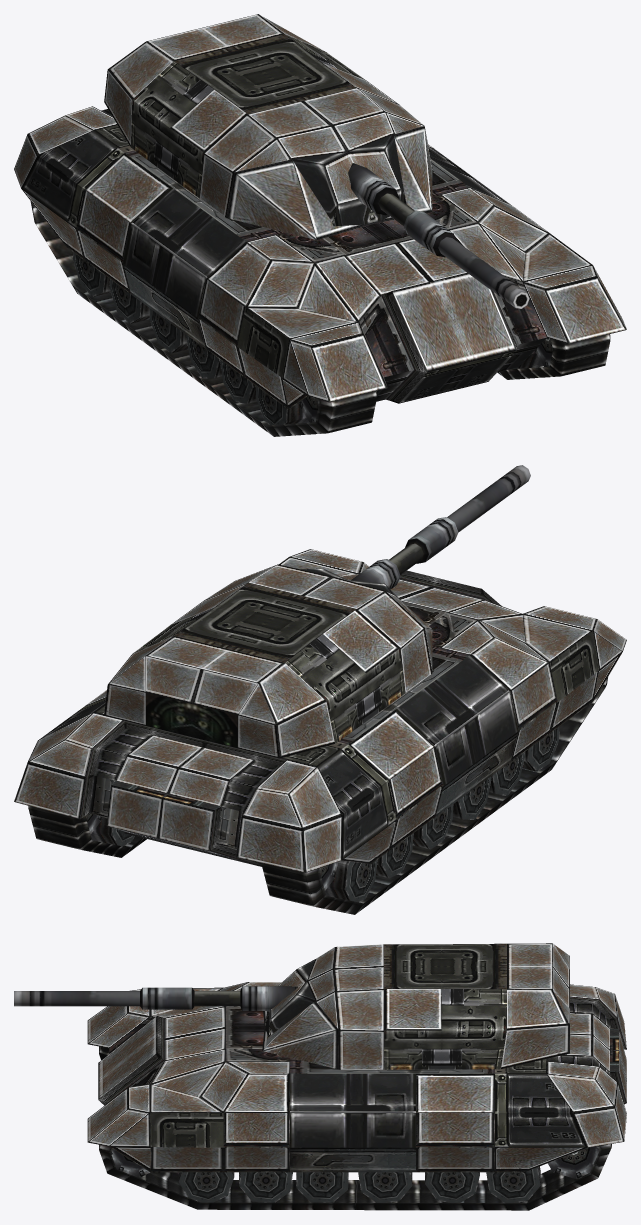
The model's file is tank3.dae.
The picture shows the model from 3 angles, top to bottom: view 1: azimuth 30°, elevation 25°; view 2: azimuth 150°, elevation 25°; view 3: azimuth 270°, elevation 25°; orthographic projection. The views are drawn at different scales.
Visible parts, largest first — view 1: body-Geometry, tower-Geometry, tracks-Geometry, Object46-Geometry, Object50-Geometry, Object49-Geometry, Object51-Geometry, Object47-Geometry, Object48-Geometry; view 2: body-Geometry, tower-Geometry, tracks-Geometry, Object51-Geometry, Object49-Geometry, Object50-Geometry, Object48-Geometry, Object46-Geometry, Object47-Geometry, Object44-Geometry; view 3: body-Geometry, tower-Geometry, tracks-Geometry, Object44-Geometry, Object01-Geometry, Object42-Geometry, Object43-Geometry, Object41-Geometry, Object40-Geometry, Object08-Geometry, Object02-Geometry.
Part boxes in pixels (bbox=[...]): body-Geometry: bbox=[14, 106, 626, 409]; tower-Geometry: bbox=[104, 14, 529, 308]; tracks-Geometry: bbox=[30, 201, 610, 436]; Object46-Geometry: bbox=[255, 386, 309, 425]; Object50-Geometry: bbox=[109, 279, 149, 323]; Object49-Geometry: bbox=[149, 308, 188, 353]; Object51-Geometry: bbox=[72, 252, 110, 296]; Object47-Geometry: bbox=[220, 360, 256, 403]; Object48-Geometry: bbox=[186, 335, 222, 378]; body-Geometry: bbox=[14, 549, 626, 872]; tower-Geometry: bbox=[104, 465, 530, 758]; tracks-Geometry: bbox=[28, 677, 607, 914]; Object51-Geometry: bbox=[325, 860, 377, 902]; Object49-Geometry: bbox=[412, 804, 453, 849]; Object50-Geometry: bbox=[376, 833, 413, 878]; Object48-Geometry: bbox=[453, 776, 491, 819]; Object46-Geometry: bbox=[522, 727, 559, 771]; Object47-Geometry: bbox=[489, 752, 525, 796]; Object44-Geometry: bbox=[90, 817, 134, 846]; body-Geometry: bbox=[87, 982, 626, 1172]; tower-Geometry: bbox=[14, 943, 569, 1069]; tracks-Geometry: bbox=[99, 1046, 611, 1210]; Object44-Geometry: bbox=[486, 1166, 540, 1203]; Object01-Geometry: bbox=[178, 1172, 234, 1202]; Object42-Geometry: bbox=[358, 1172, 412, 1202]; Object43-Geometry: bbox=[425, 1172, 479, 1202]; Object41-Geometry: bbox=[296, 1172, 348, 1202]; Object40-Geometry: bbox=[239, 1172, 292, 1202]; Object08-Geometry: bbox=[548, 1146, 599, 1178]; Object02-Geometry: bbox=[111, 1149, 150, 1177].
Bounding box in the file's own units: 50.06 × 98.43 × 33.12.
